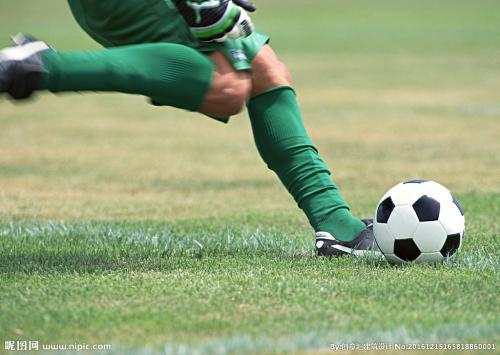football: (371, 178, 464, 266)
